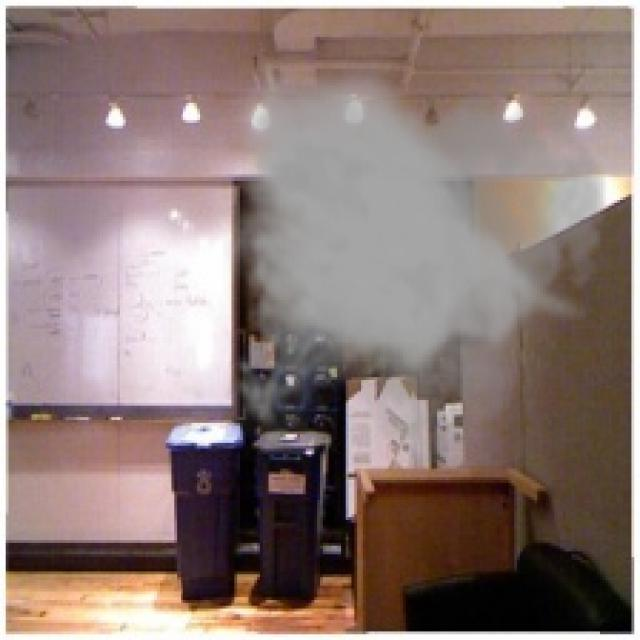Smoke: (223, 57, 612, 472)
